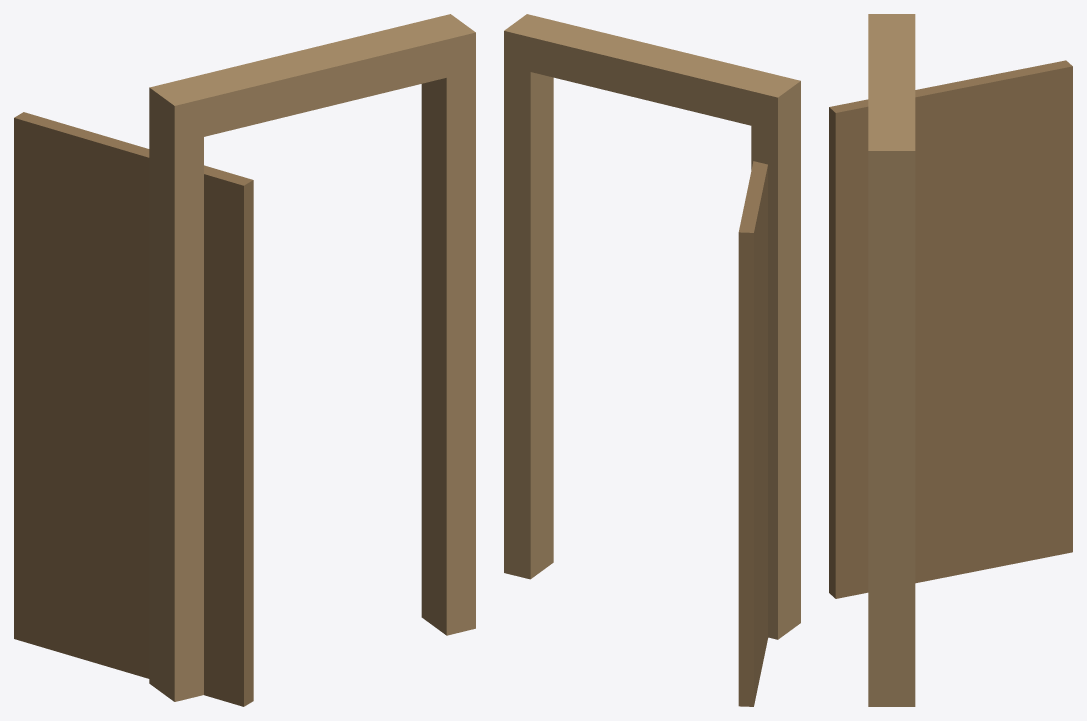
Rendered from door.glb.
3 renders of one model, left to right at view 1: azimuth 30°, elevation 25°; view 2: azimuth 150°, elevation 25°; view 3: azimuth 270°, elevation 25°, orthographic. The views are drawn at different scales.
Visible parts, largest first — view 1: DoorLeaf, DoorPostL, DoorPostR, DoorLintel; view 2: DoorPostR, DoorPostL, DoorLintel, DoorLeaf; view 3: DoorLeaf, DoorPostR, DoorLintel.
Boxes of the visible parts, <box> form: DoorLeaf: <box>14,112,253,706</box>; DoorPostL: <box>149,126,203,701</box>; DoorPostR: <box>421,69,475,635</box>; DoorLintel: <box>149,14,475,143</box>; DoorPostR: <box>504,65,553,579</box>; DoorPostL: <box>751,115,800,639</box>; DoorLintel: <box>504,14,800,131</box>; DoorLeaf: <box>738,161,768,706</box>; DoorLeaf: <box>829,60,1072,598</box>; DoorPostR: <box>868,185,915,706</box>; DoorLintel: <box>868,14,915,186</box>.
Size of the model in its own units: 1.46 by 2.35 by 0.9317.
